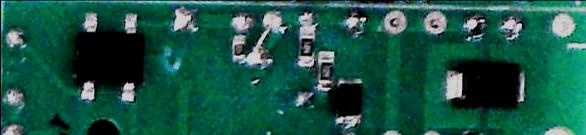chip-resistor: (296, 23, 316, 67), (316, 50, 334, 91), (228, 30, 247, 62)
diode: (438, 60, 528, 114), (334, 76, 366, 128)
ic: (75, 9, 145, 106)
